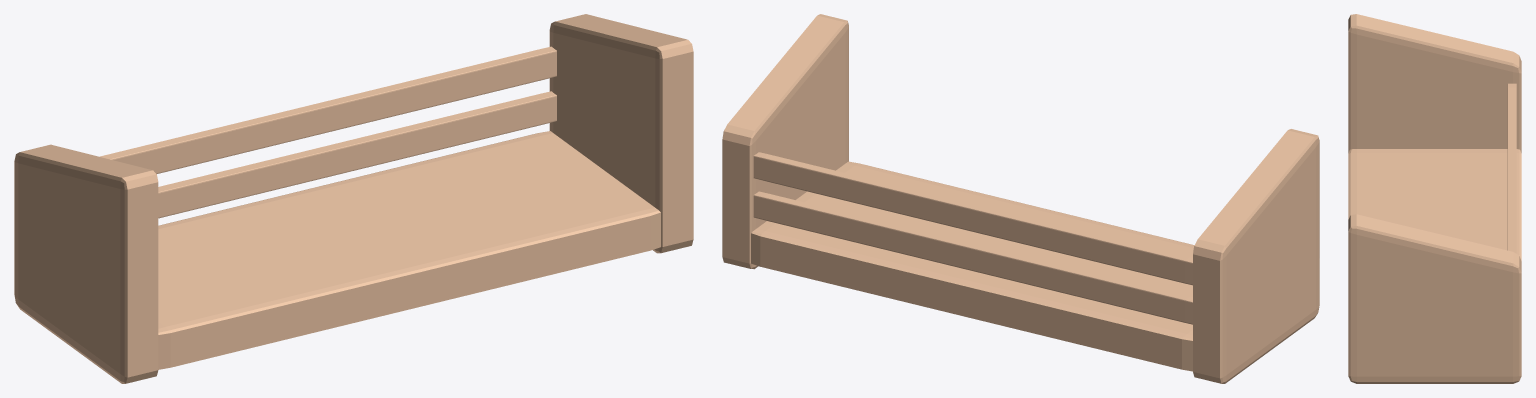
Rendered from Wall_bookshelf.fbx.
3 renders of one model, left to right at view 1: azimuth 30°, elevation 25°; view 2: azimuth 150°, elevation 25°; view 3: azimuth 270°, elevation 25°, orthographic. The views are drawn at different scales.
Visible parts, largest first — view 1: Wall bookshelf; view 2: Wall bookshelf; view 3: Wall bookshelf.
Part boxes in pixels (x1,y1,x2,y2): Wall bookshelf: (14,14,693,383); Wall bookshelf: (722,14,1319,383); Wall bookshelf: (1348,14,1521,383).
Bounding box in the file's own units: 245 × 84.74 × 84.25.
